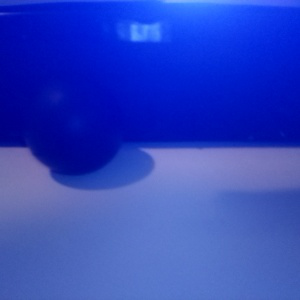dead_ball: (24, 72, 125, 173)
